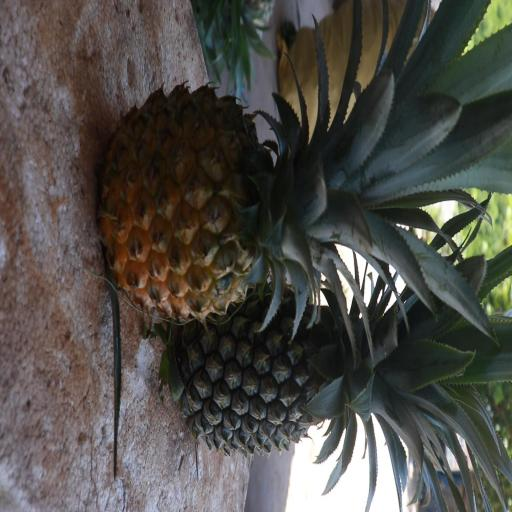Pineapple - v8 v1: (98, 86, 437, 305)
